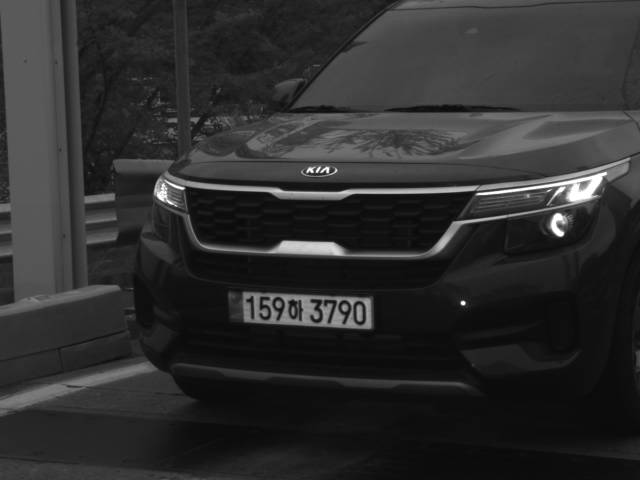car: (128, 1, 640, 416)
plate: (226, 289, 376, 332)
